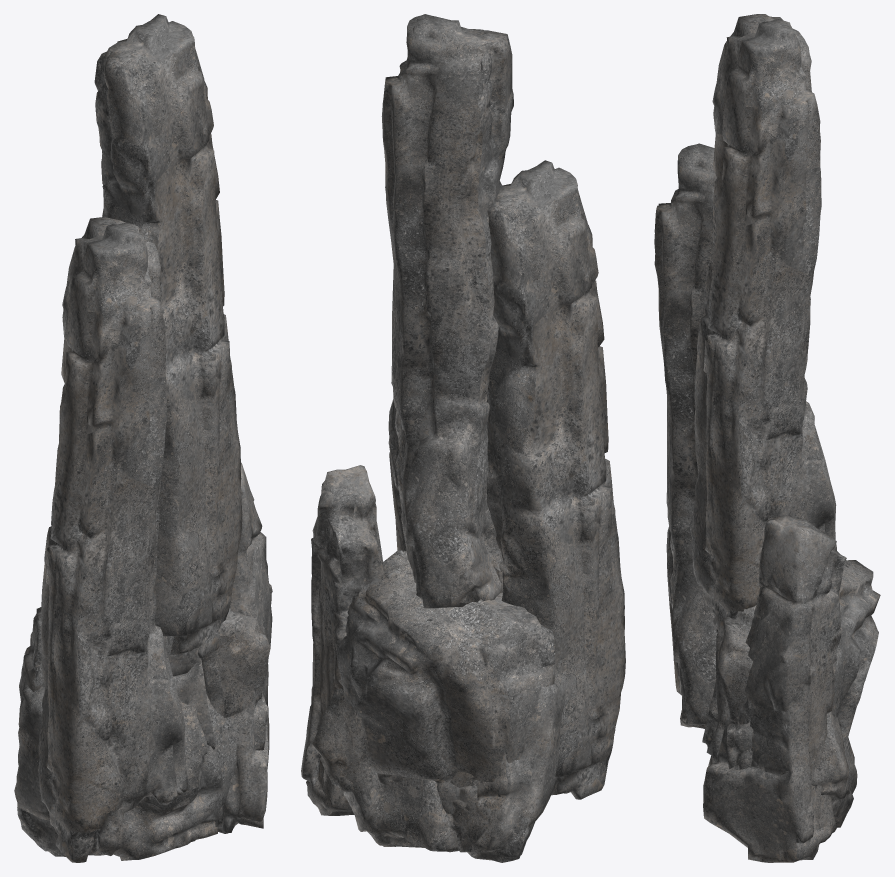
The model's file is SM_GroupedRock_4.fbx.
The picture shows the model from 3 angles, left to right: view 1: azimuth 30°, elevation 25°; view 2: azimuth 150°, elevation 25°; view 3: azimuth 270°, elevation 25°; orthographic projection. The views are drawn at different scales.
Visible parts, largest first — view 1: SM_GroupedRock_4_LOD0; view 2: SM_GroupedRock_4_LOD0; view 3: SM_GroupedRock_4_LOD0.
Part boxes in pixels (bbox=[...]): SM_GroupedRock_4_LOD0: bbox=[14, 14, 272, 862]; SM_GroupedRock_4_LOD0: bbox=[301, 14, 625, 862]; SM_GroupedRock_4_LOD0: bbox=[654, 14, 880, 862].
Bounding box in the file's own units: 691 × 534 × 2089.
